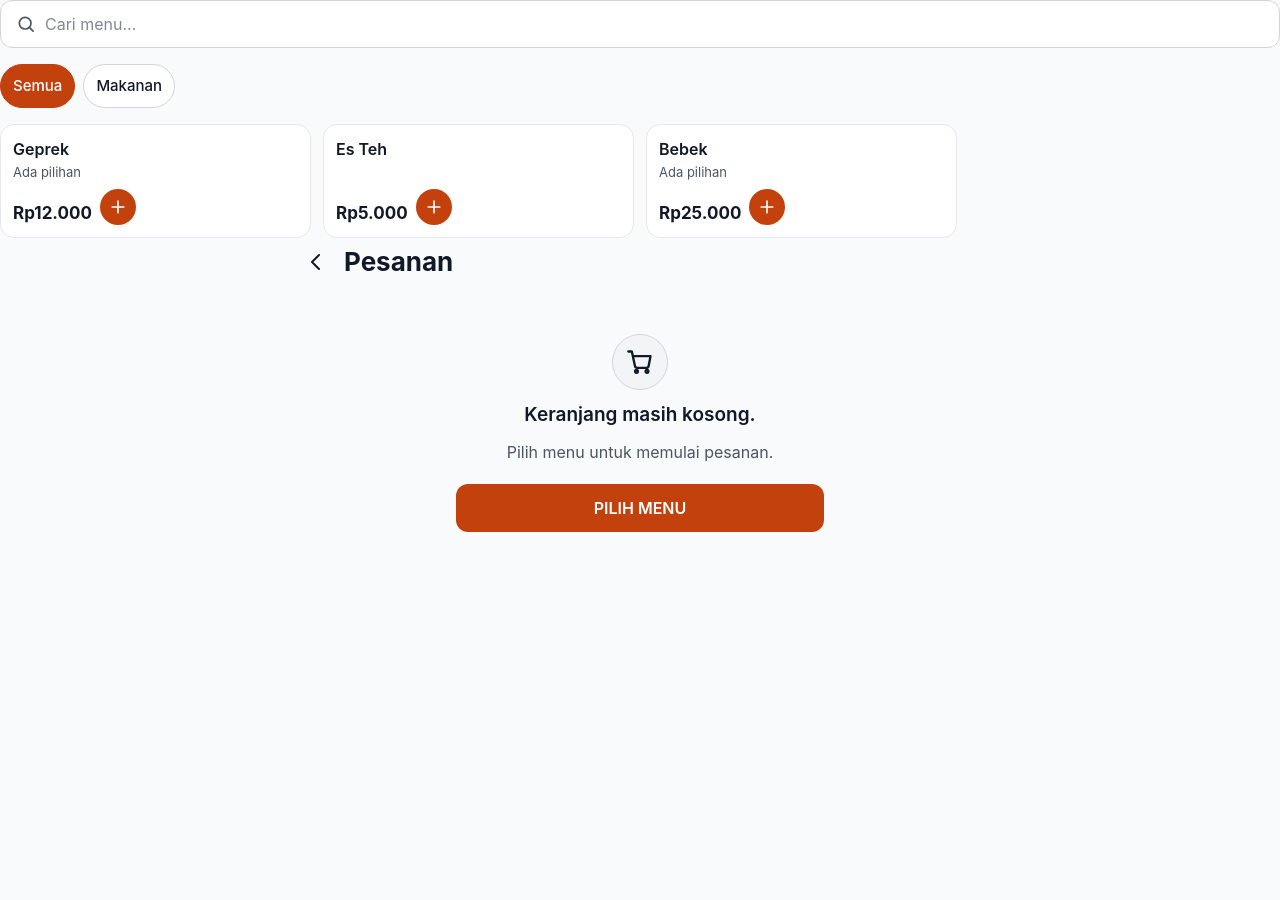
Test: products with options on the cashier screen › adds several units at once with the quantity stepper
What coordinates should you click on to do the following:
click the button "Geprek Ada pilihan Rp12.000"
I would click on:
 (41, 149)
Its box is left=0, top=124, right=311, bottom=238.
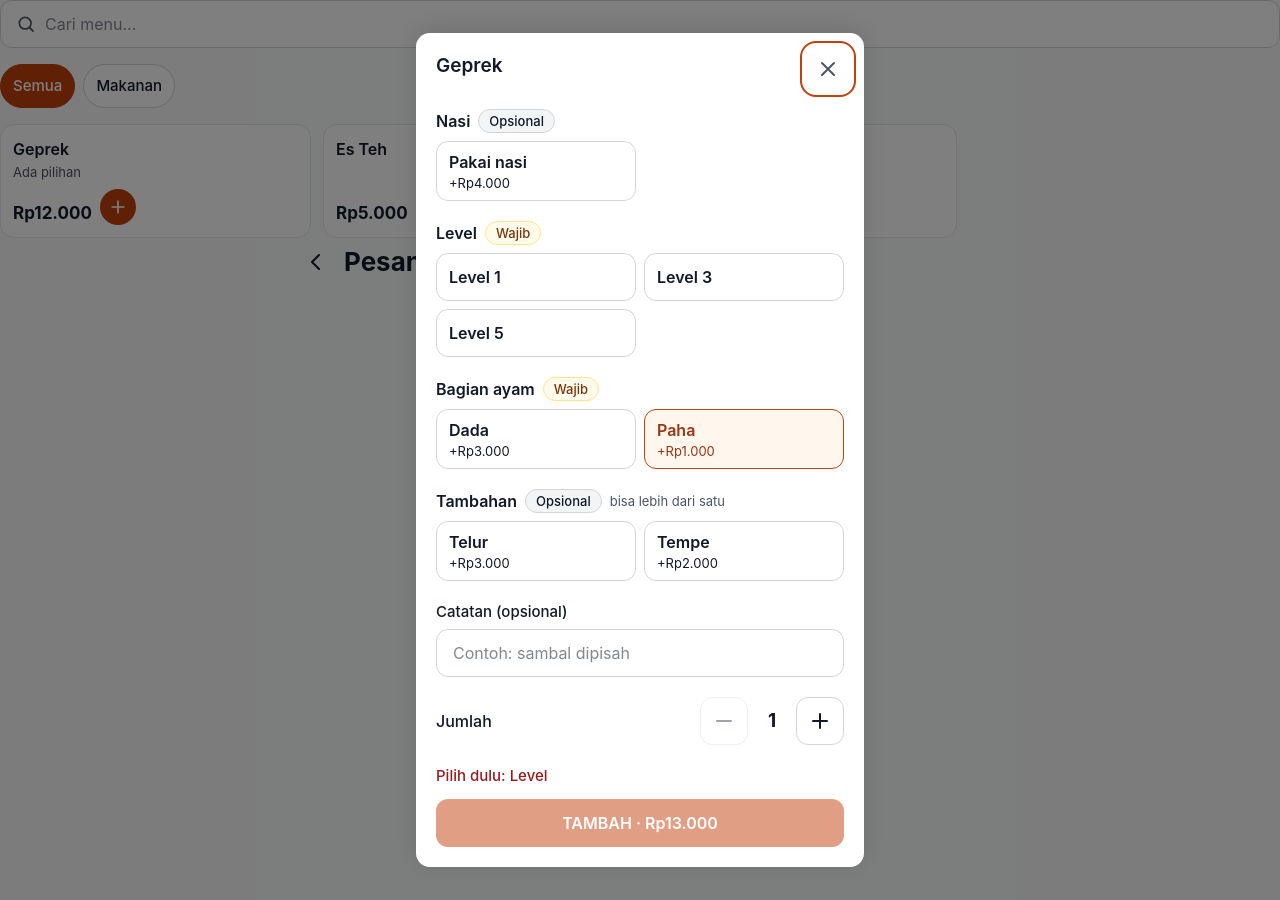
What coordinates should you click on to do the following:
click the button "Level 5"
I would click on:
 (536, 333)
Its box is left=436, top=309, right=636, bottom=357.
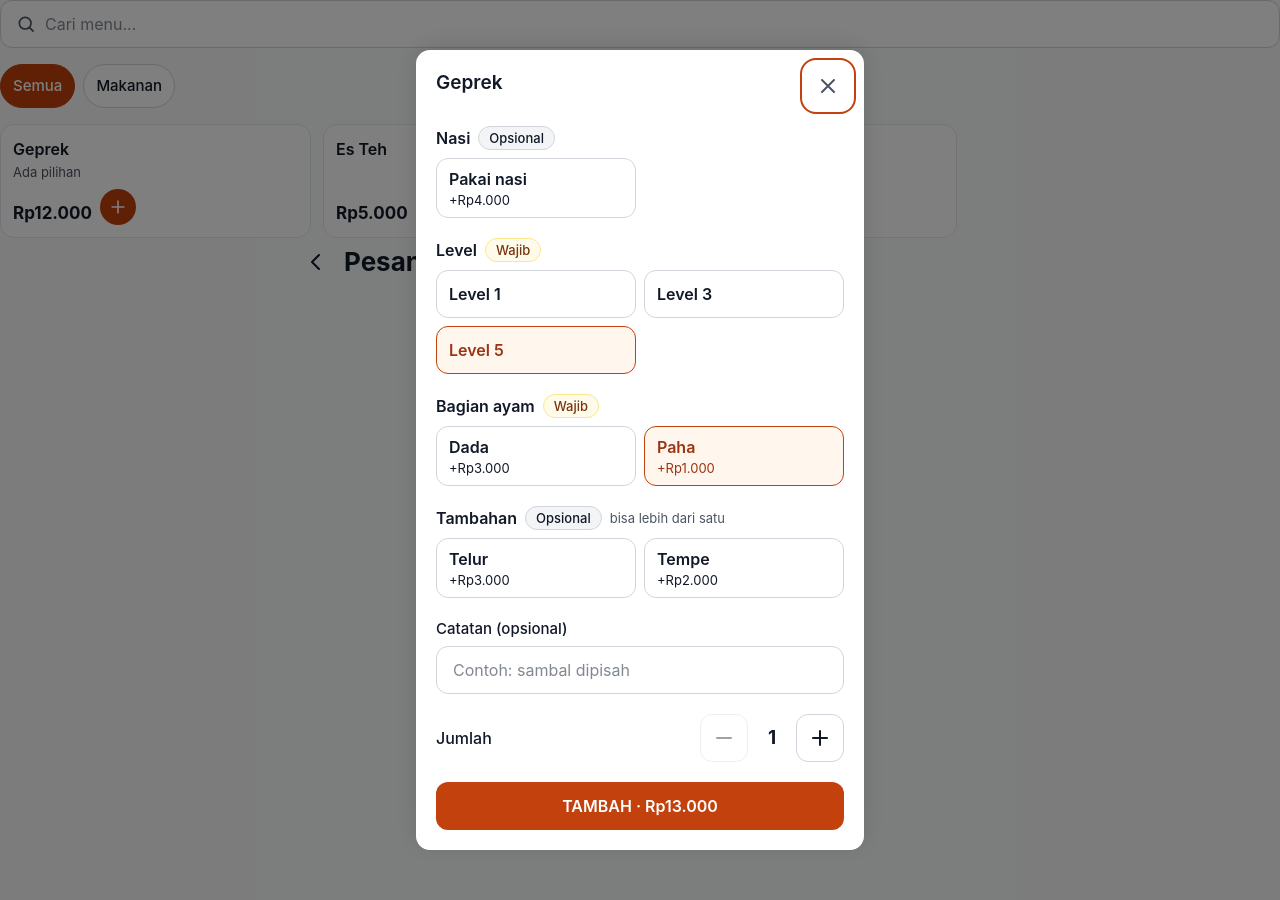
What coordinates should you click on to do the following:
click the button named "Tambah Geprek"
I would click on:
 (820, 738)
Its box is left=796, top=714, right=844, bottom=762.
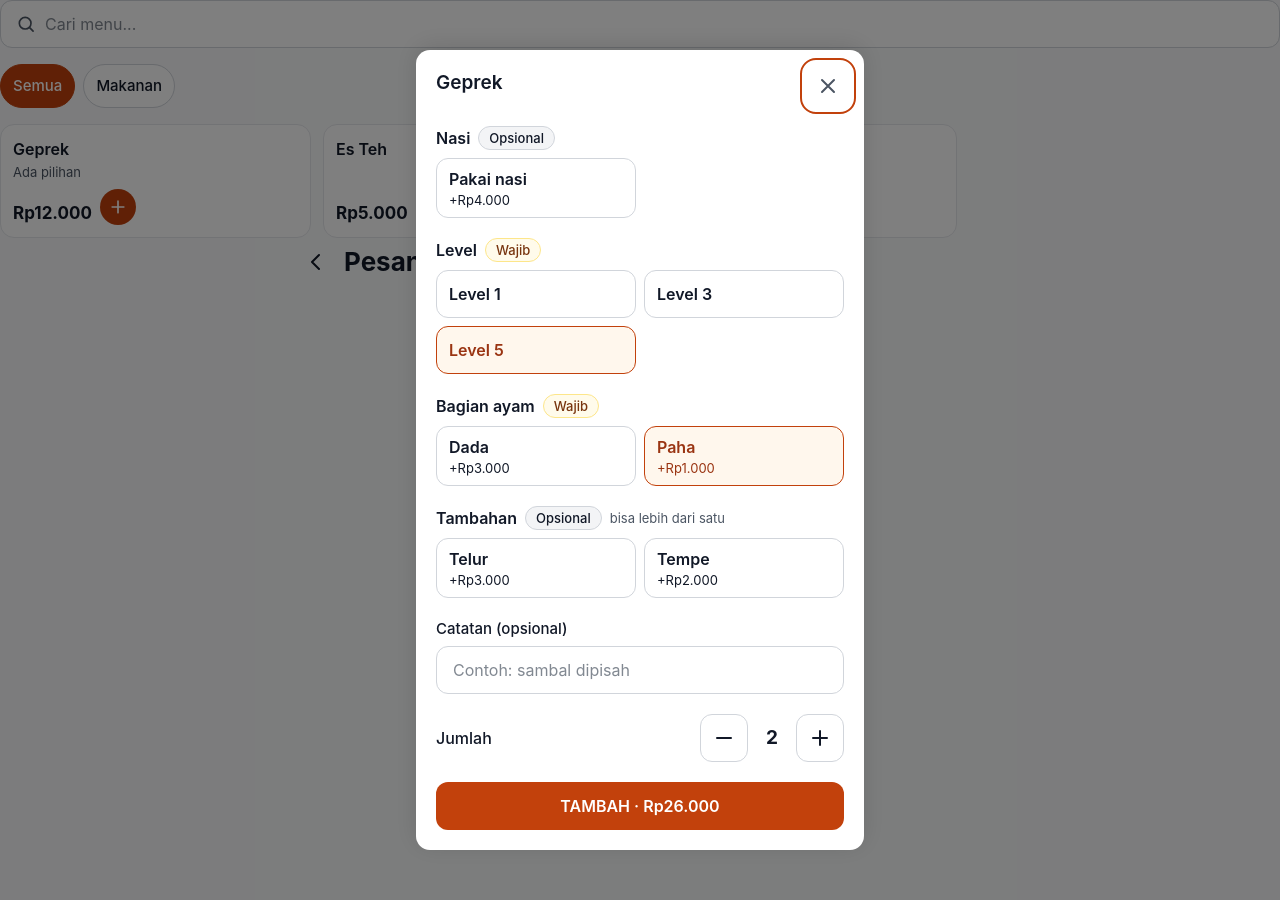
What coordinates should you click on to do the following:
click the button named "Tambah Geprek"
I would click on:
 (820, 738)
Its box is left=796, top=714, right=844, bottom=762.
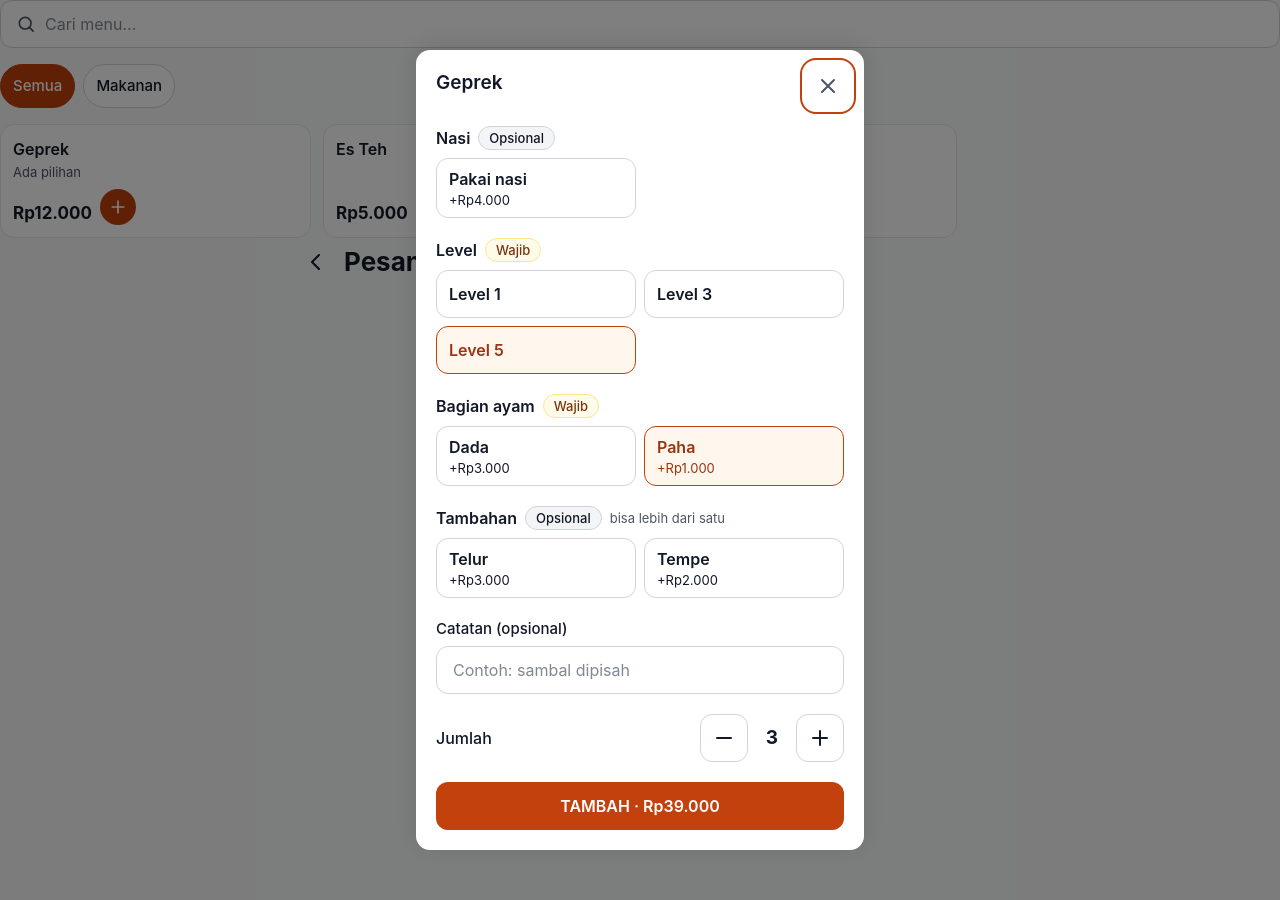
Expected: the button "TAMBAH · Rp39.000" is shown
What coordinates should you click on to do the following:
click the button "TAMBAH · Rp39.000"
I would click on:
 (640, 806)
Its box is left=436, top=782, right=844, bottom=830.
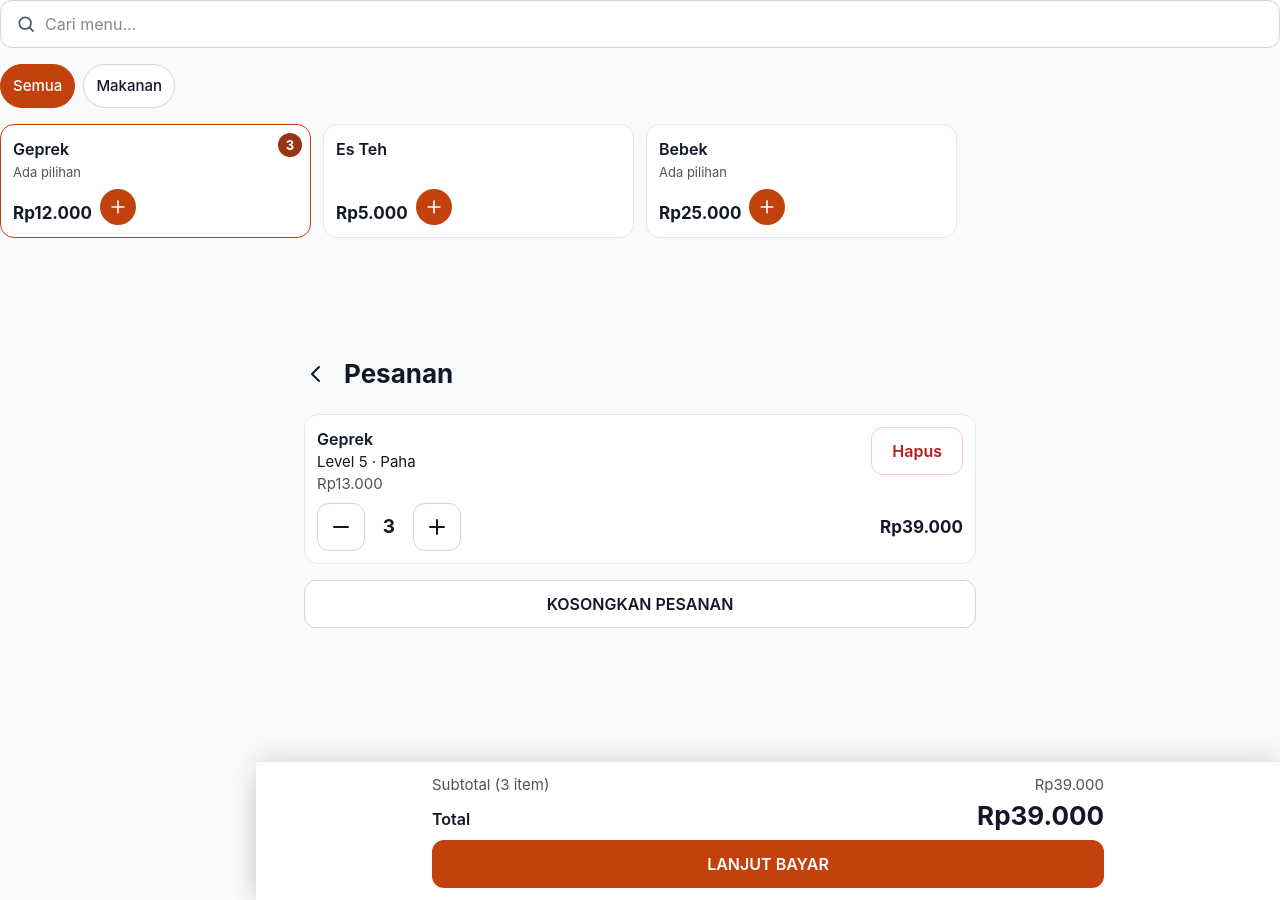
Expected: the text named "Jumlah 3" is shown, left=383, top=515, right=395, bottom=538
Expected: the list item "Geprek Level 5 · Paha Rp13.000 Hapus 3 Rp39.000" is shown, left=304, top=414, right=976, bottom=564
